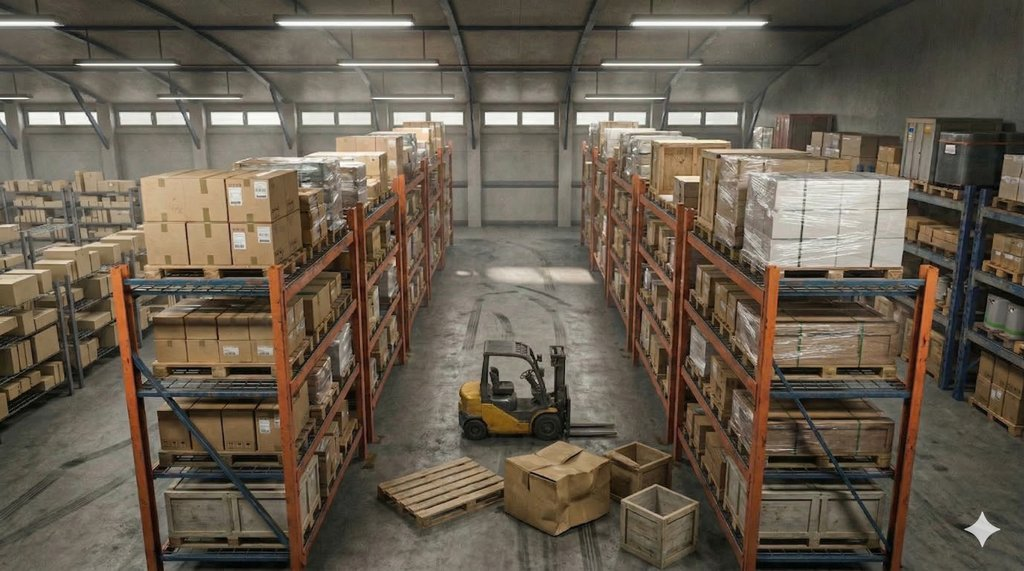forklift: (443, 331, 637, 460)
obstacle: (496, 432, 723, 570)
pallet: (372, 458, 526, 528), (747, 351, 903, 400), (757, 440, 910, 487), (137, 256, 294, 295), (756, 254, 901, 295), (754, 520, 894, 559), (146, 362, 306, 392), (143, 449, 317, 475), (166, 528, 302, 560), (921, 183, 973, 213), (969, 318, 1011, 351), (978, 259, 1020, 281), (984, 194, 1018, 217)
